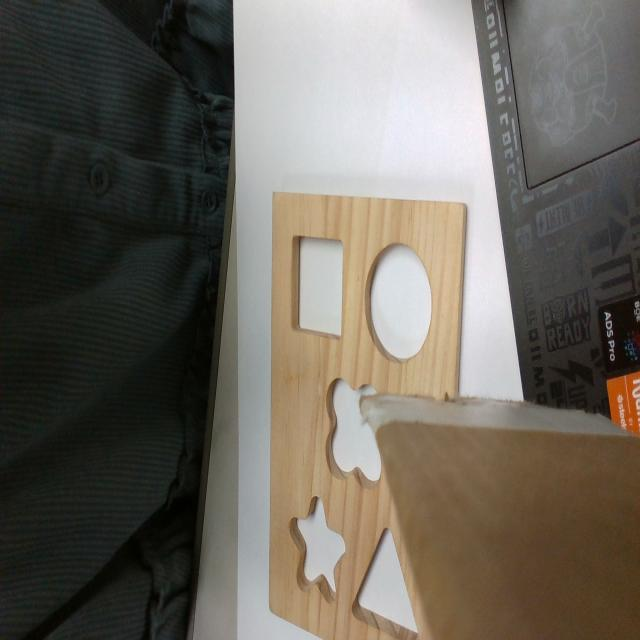circle: (368, 244, 433, 357)
flower: (325, 379, 379, 486)
square: (293, 239, 342, 334)
star: (292, 496, 346, 603)
triangle: (351, 525, 421, 638)
